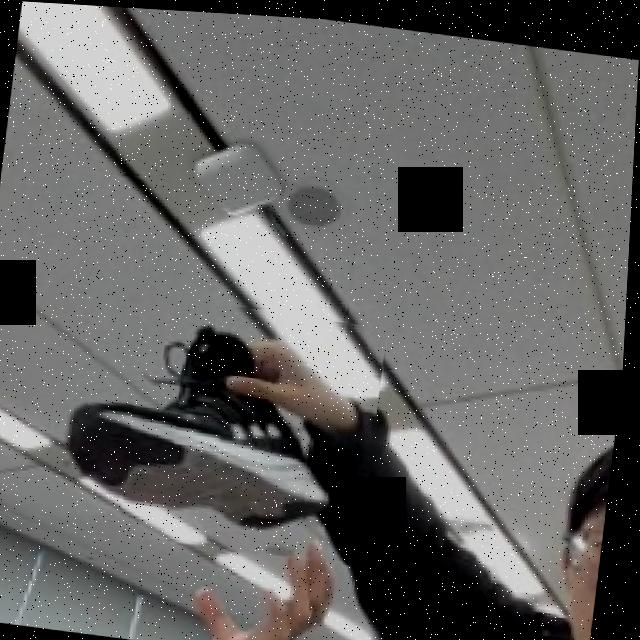shoe: (53, 279, 392, 562)
